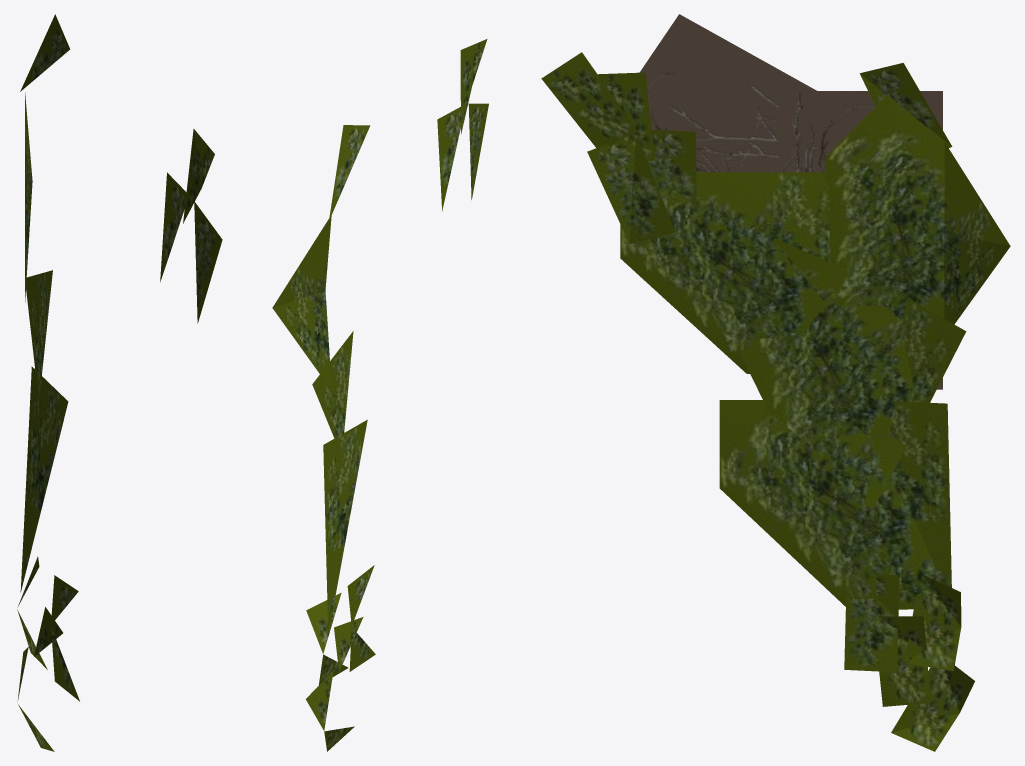
The model's file is prop_ivy_bottom_1.glb.
The picture shows the model from 3 angles, left to right: view 1: azimuth 30°, elevation 25°; view 2: azimuth 150°, elevation 25°; view 3: azimuth 270°, elevation 25°; orthographic projection. The views are drawn at different scales.
Size of the model in its own units: 19.4 by 384 by 223.
1 material, 1 textured.
